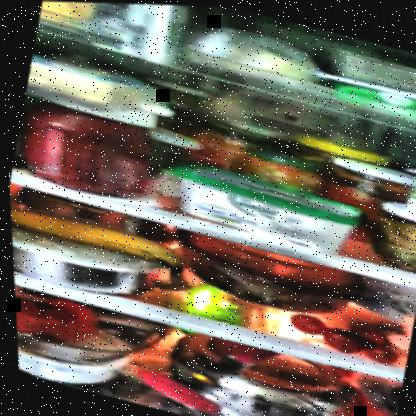banana: (8, 205, 184, 273)
cheese: (174, 161, 358, 252), (28, 55, 168, 120)
cream_cheese: (311, 67, 415, 125)
tomato: (284, 309, 401, 364), (12, 288, 103, 348)
